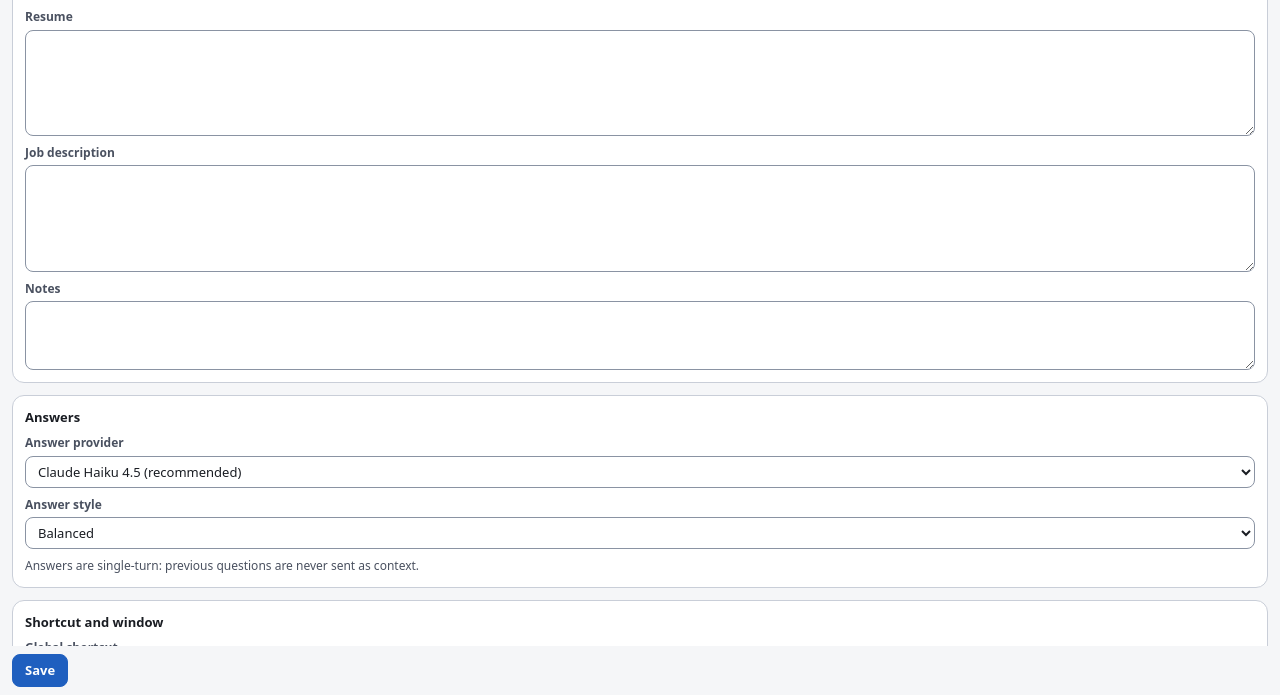
Test: saving › dirty_reported_on_edit_and_cleared_after_save
The image size is (1280, 695).
(page scrolled)
Type "n" into the text box labelled "Notes" at (640, 335), box [25, 301, 1255, 370]
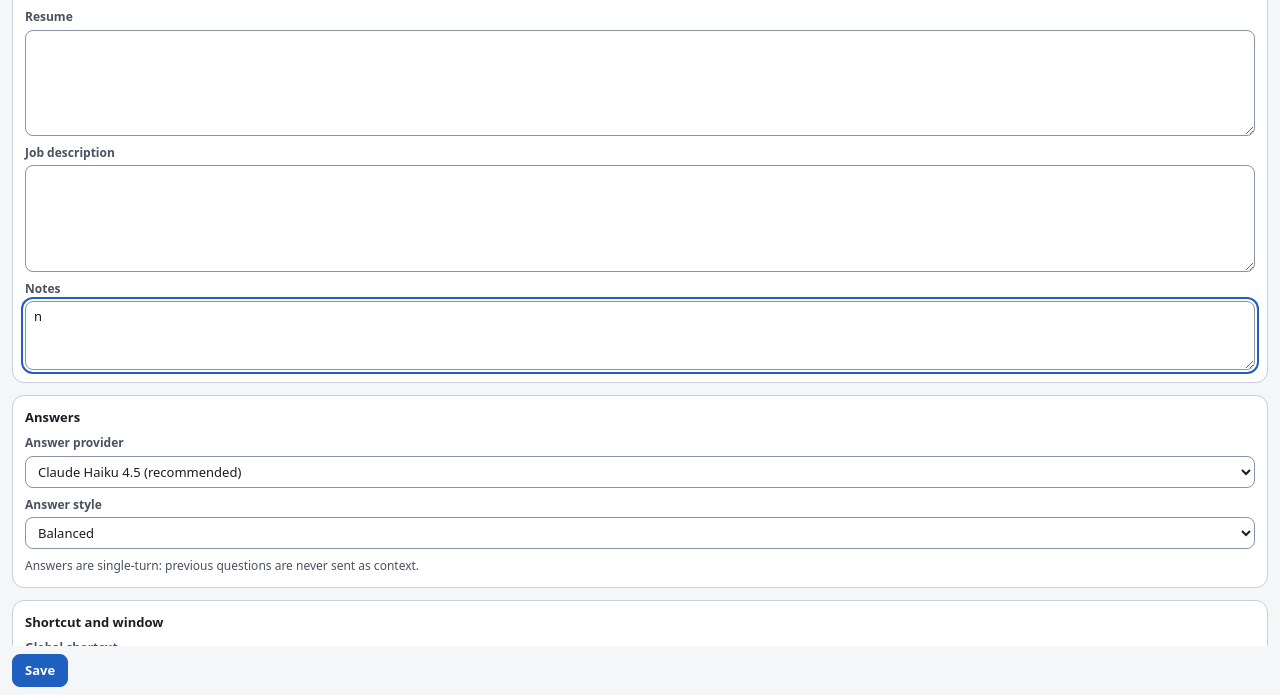
Click the button "Save" at (40, 671), box [12, 654, 68, 687]
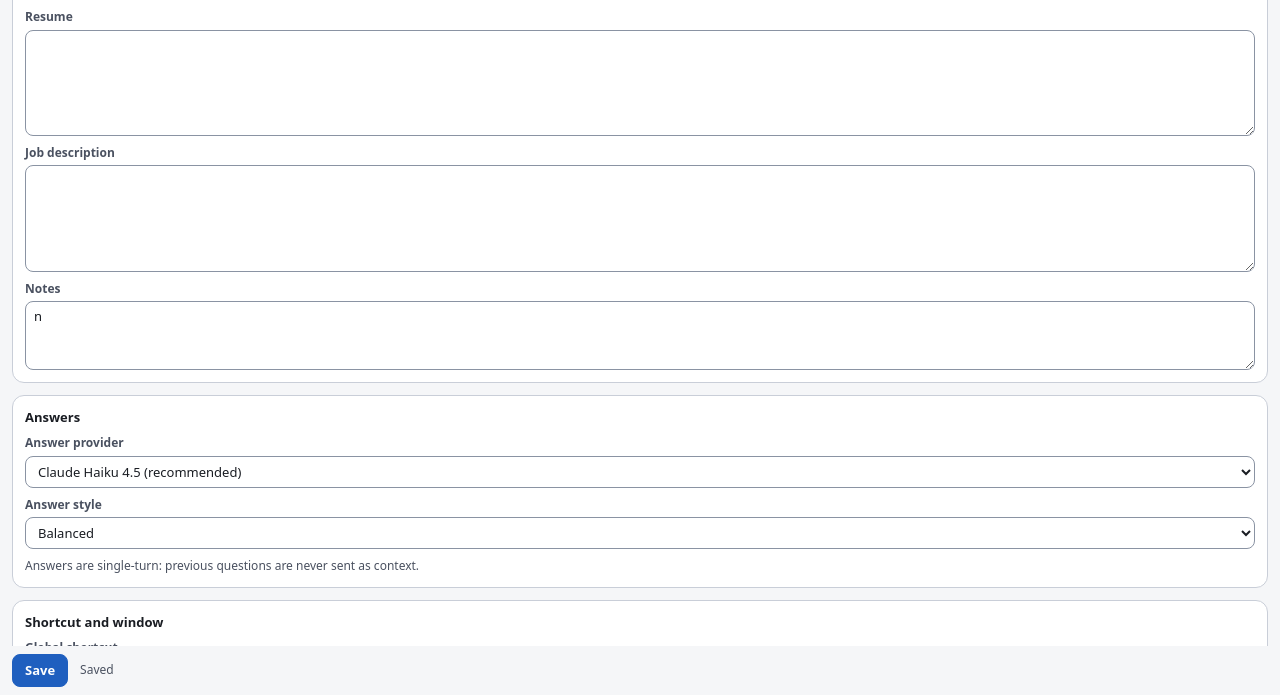
Now the text "Saved" is shown, box [80, 662, 114, 679]
